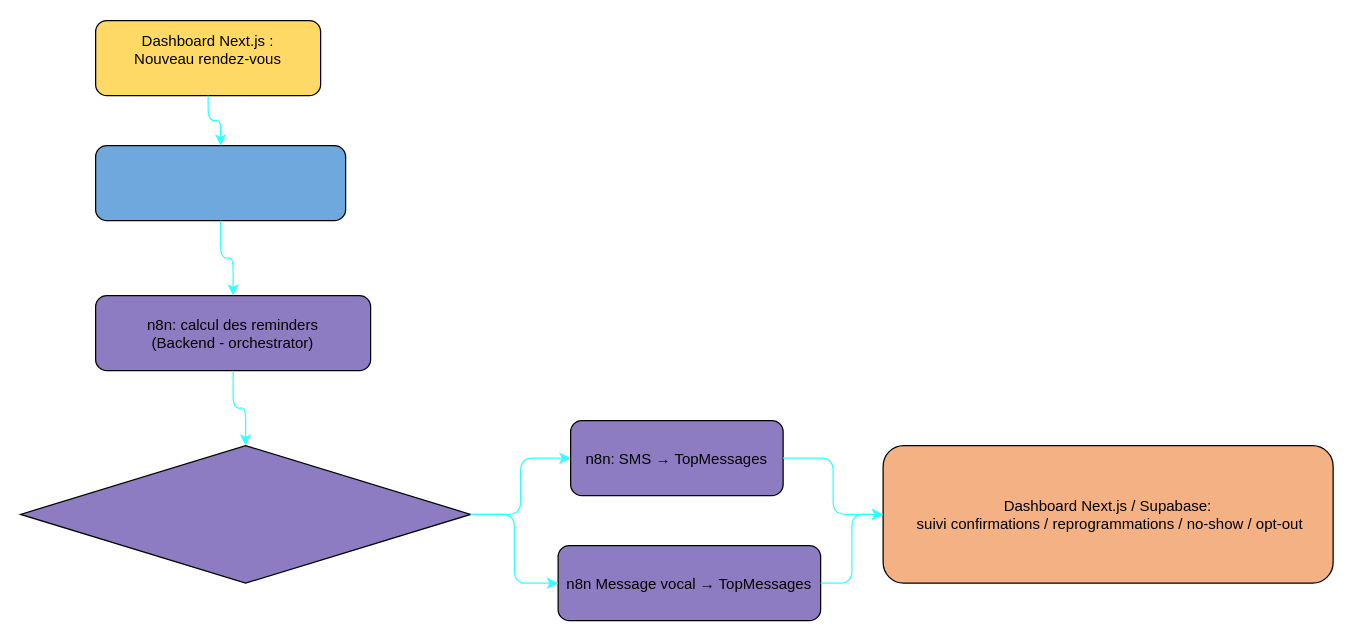
Image size: 1354x641. Some labels were removed from this diagram. The shapes that lost their labels are listed below. From the top down, each one's box as (x1, y1, x2, y2) in pixels, then its label:
(94, 144, 346, 221): Supabase: stocker RDV (Backend)
(19, 444, 471, 583): n8n: Décision rappel: D-3 / D-1 / H-3 / H-1 / H0 / H+5
